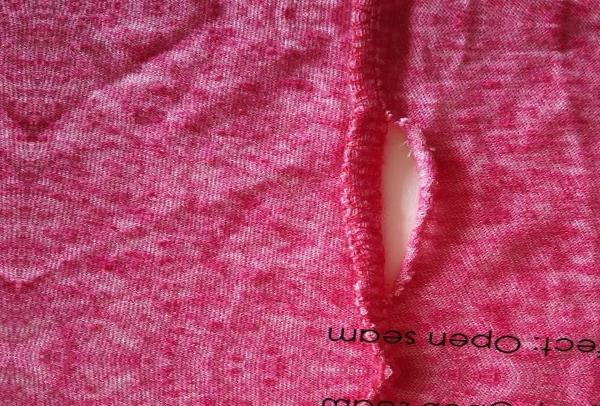hole: (355, 91, 441, 305)
